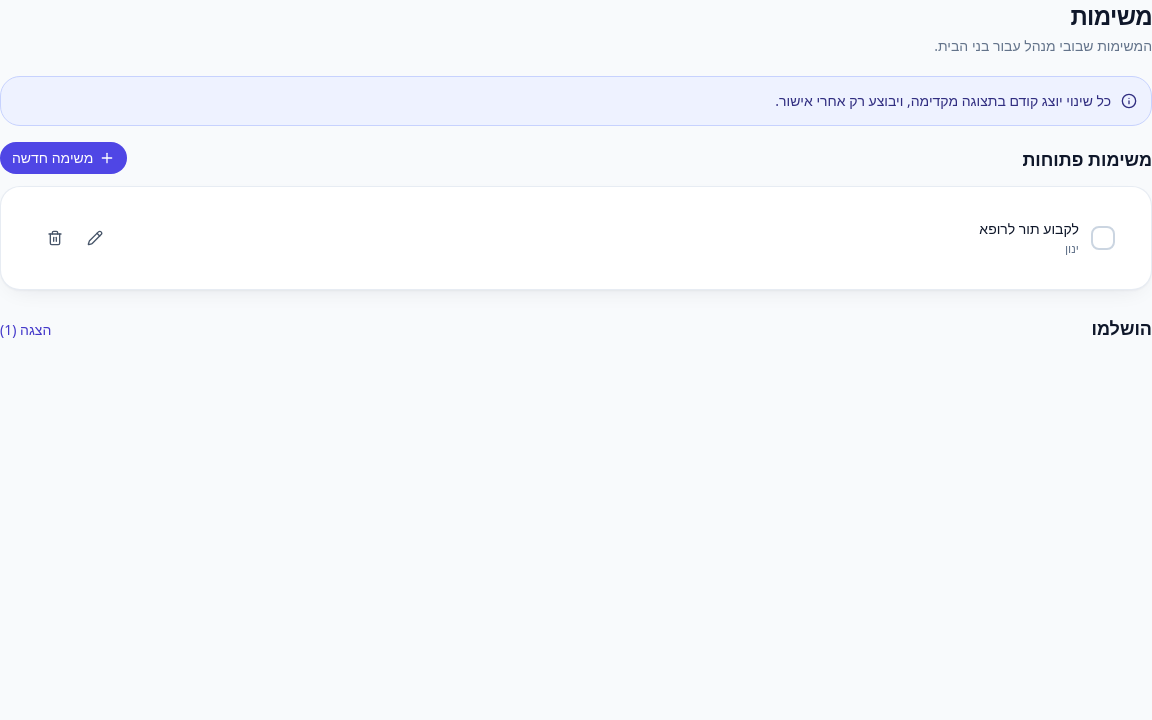
it: deleting a task › warns, and refuses to commit until the word is typed
Click the button named "מחיקה". click: (55, 238)
box: [37, 220, 73, 256]
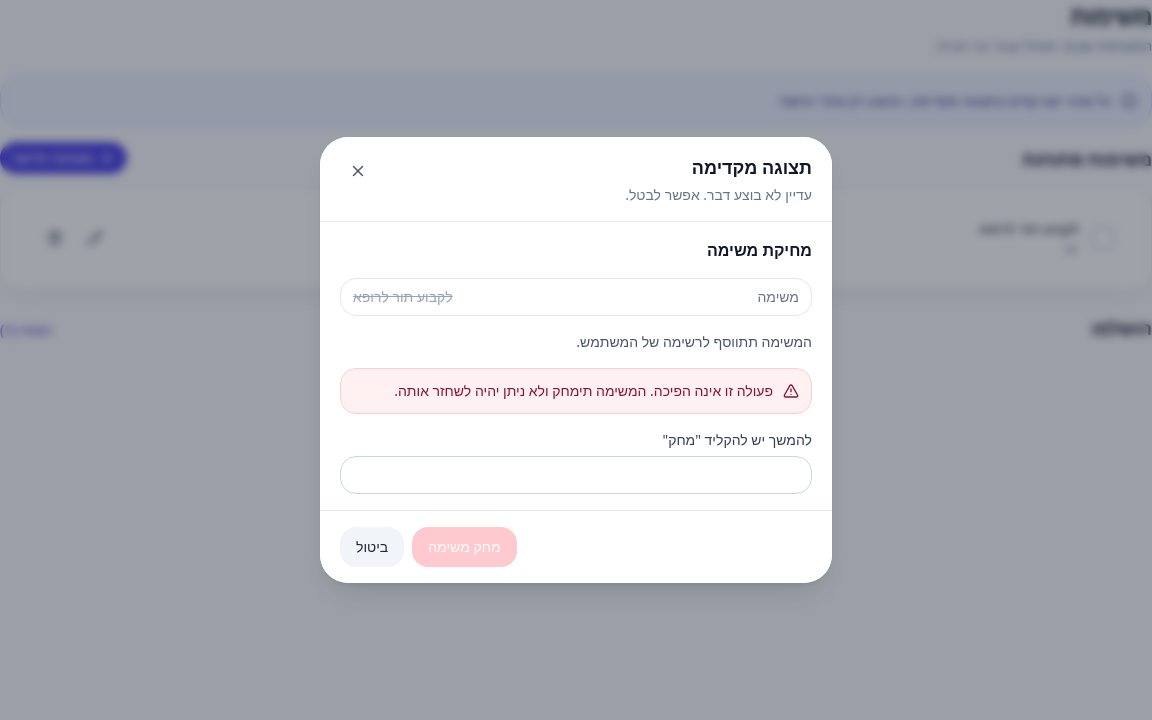
Result: the text "מחיקת משימה" is shown at [707, 239, 812, 261]
Result: the text "פעולה זו אינה הפיכה. המשימה תימחק ולא ניתן יהיה לשחזר אותה." is shown at [394, 381, 773, 401]
Result: the button "מחק משימה" is disabled at [412, 527, 516, 567]
// A wrong word keeps it disabled.
Type "כן" into the field labelled "להמשך יש להקליד \"מחק\"". click: (576, 475)
box: [340, 456, 812, 494]
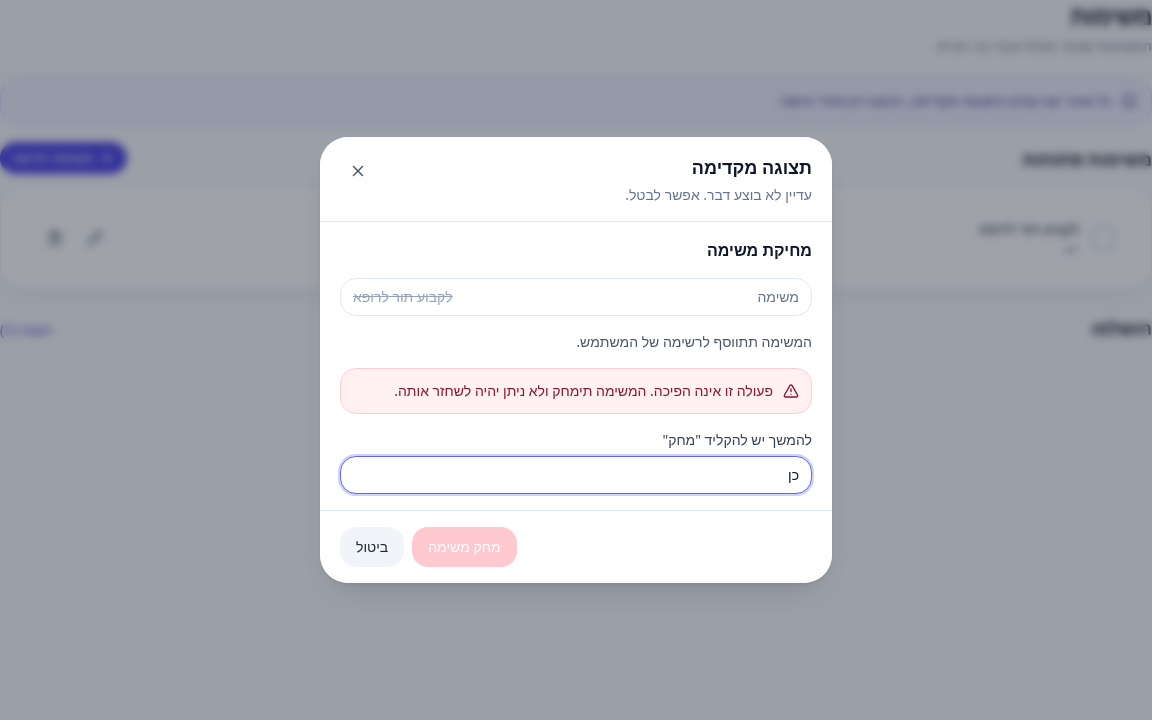
Result: the button "מחק משימה" is disabled at [412, 527, 516, 567]
Replace the text in the field labelled "להמשך יש להקליד \"מחק\"" with "מחק". click: (576, 475)
box: [340, 456, 812, 494]
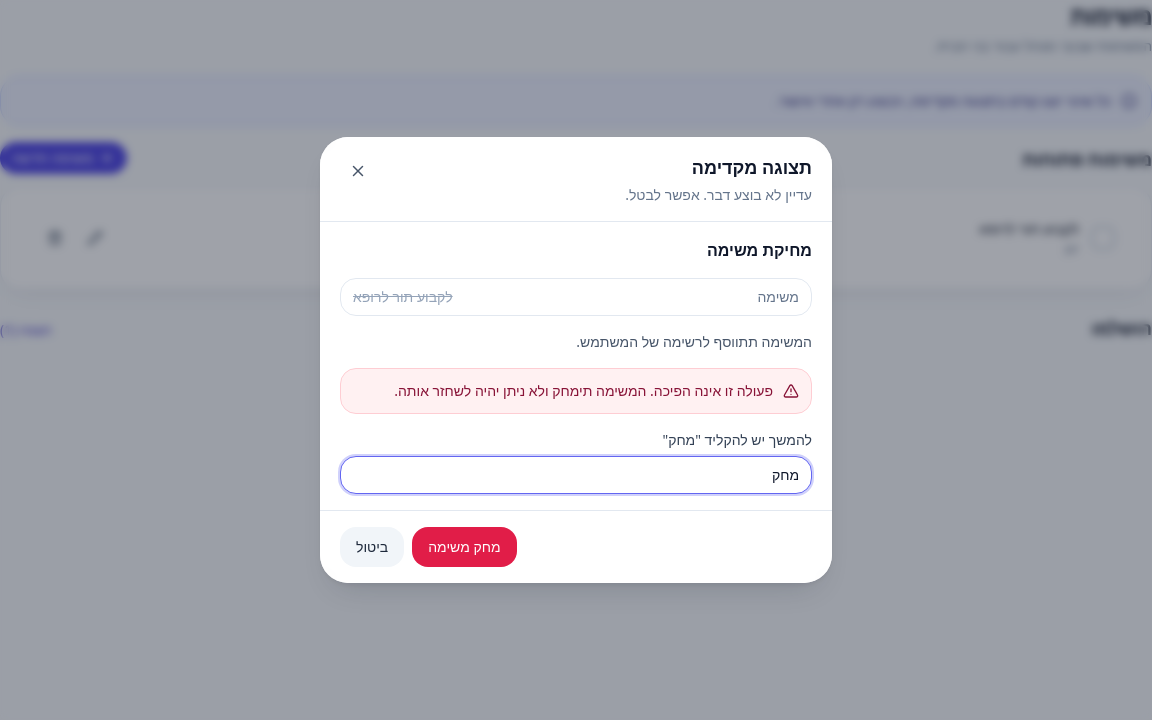
Result: the button "מחק משימה" is enabled at [412, 527, 516, 567]
